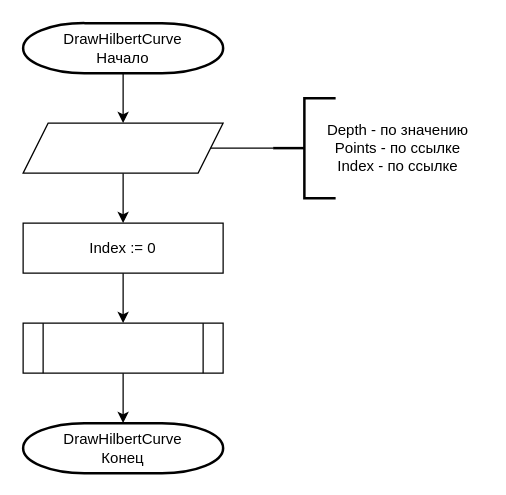
The diagram is 506 pixels wide and 495 high, and some of its shapes have lost their labels. The shapes that lost their labels are listed below. From the top down, each one's centre as x and y in pixels, then its label:
At (x=122, y=147): "Depth, Points, Index".
At (x=122, y=347): "HilbertA(Depth, Points, Index, 0, 0, 512, 0, 0, 512)".
